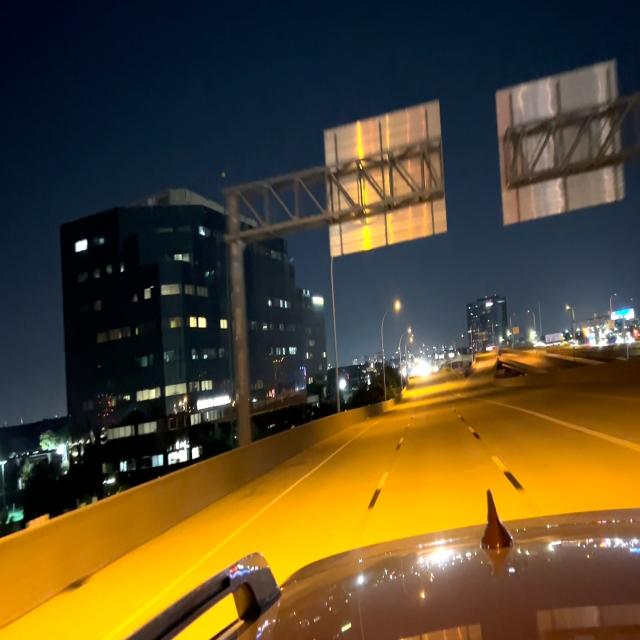back-of-sign: (496, 58, 627, 231), (323, 99, 447, 258)
